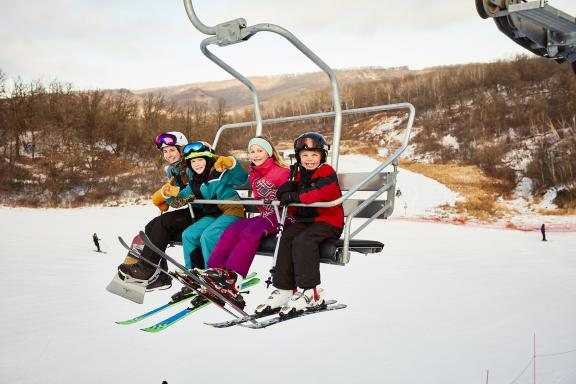skier: (273, 130, 357, 332), (175, 132, 235, 310), (228, 135, 285, 294)
